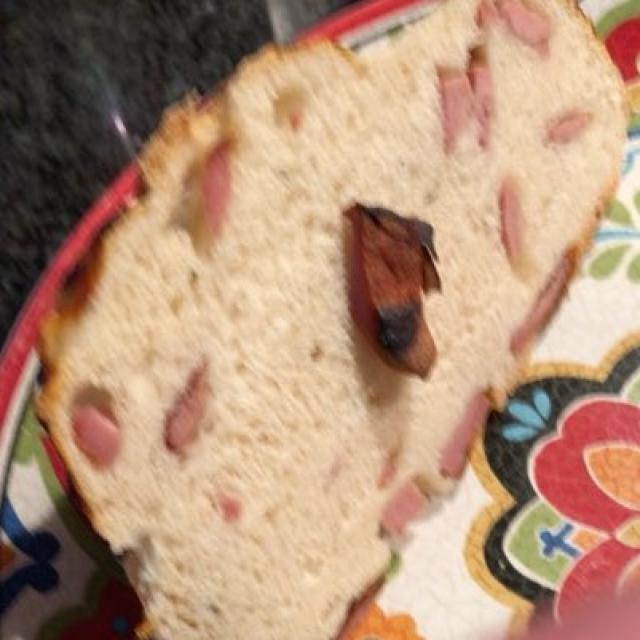bread: (54, 15, 629, 636), (36, 20, 622, 617)
